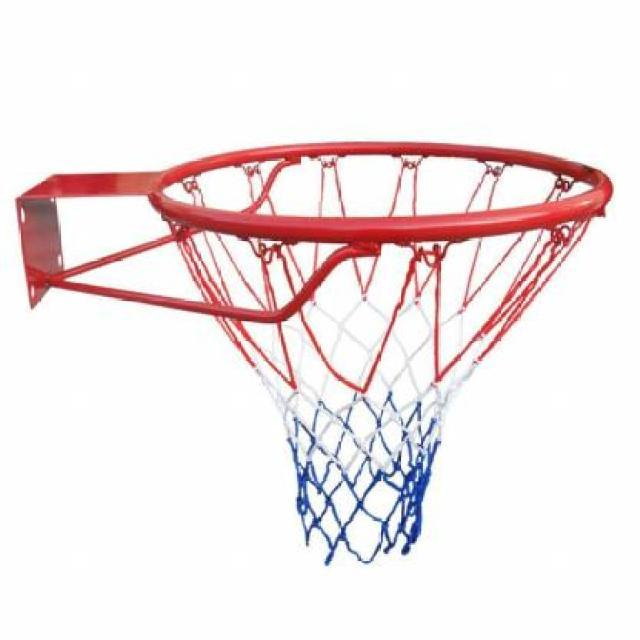rim: (150, 138, 612, 566)
